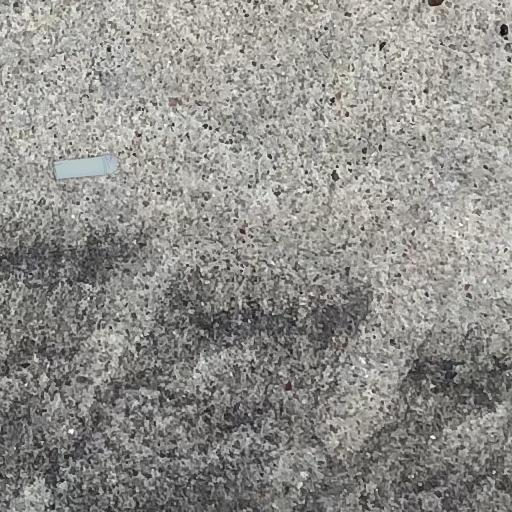smoke: (55, 155, 120, 179)
